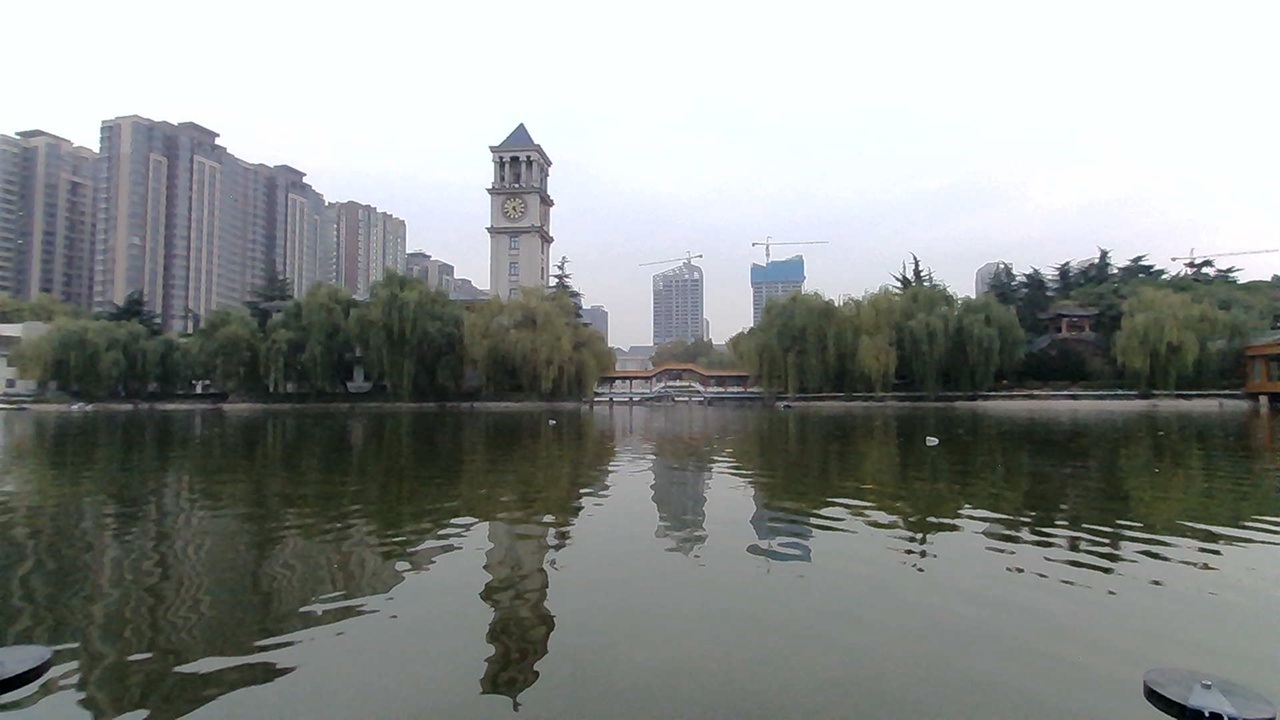bottle: (919, 431, 951, 452)
